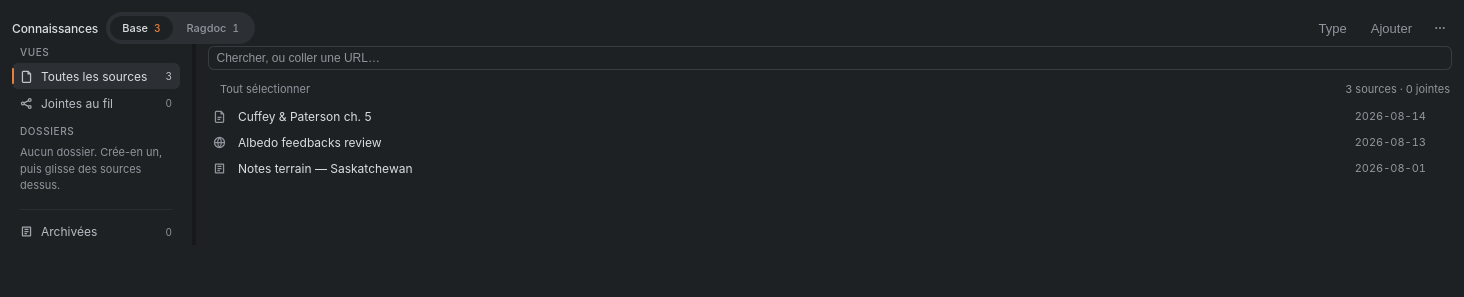
Scenario: KbSurface › tout sélectionner porte sur ce qui est affiché, pas sur toute la base
This screenshot has width=1464, height=297.
Type "albedo" into the field with placeholder "Chercher, ou coller une URL…" at coordinates (830, 58), box [208,46,1452,70]
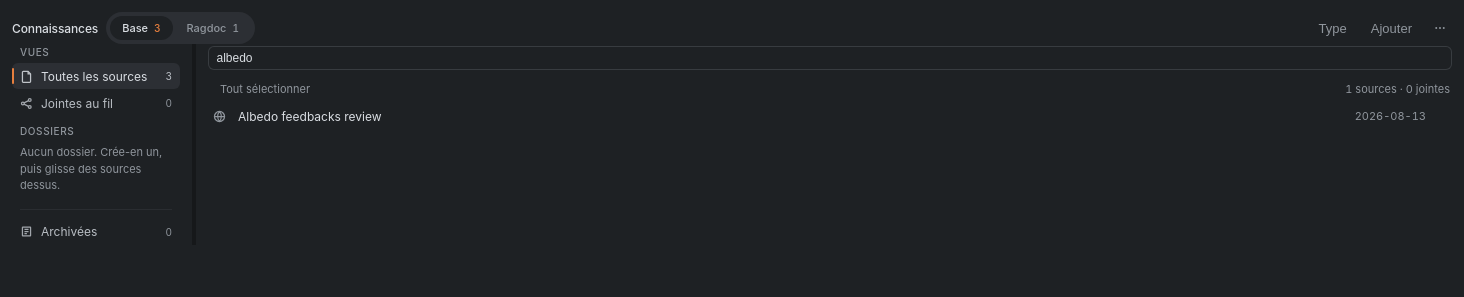
Click the button "Tout sélectionner" at coordinates (265, 89), box [212,80,318,98]
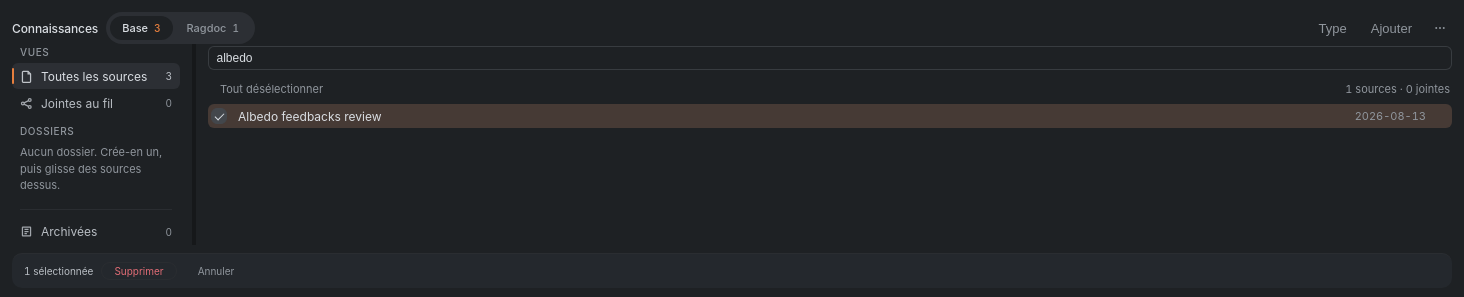
Expected: the text "1 sélectionnée" is shown, [24,264,93,276]
